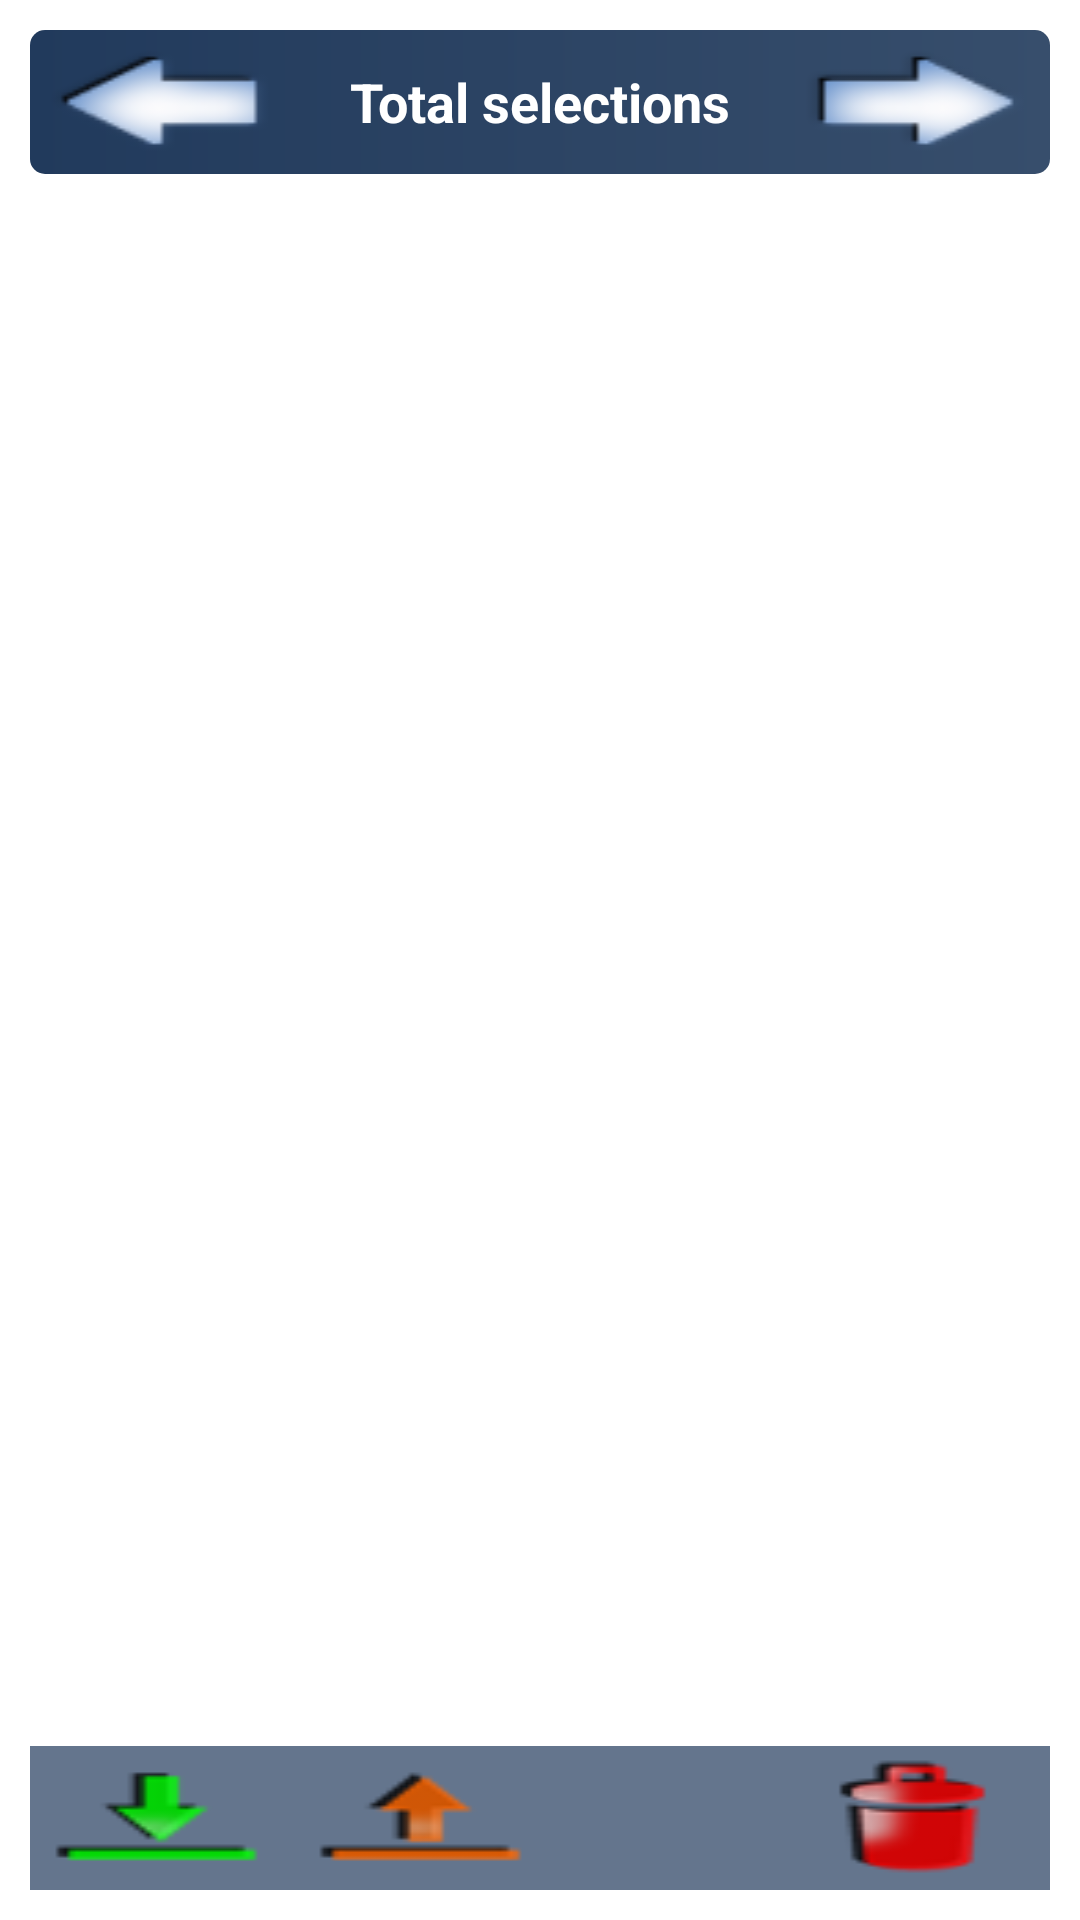

Where to tap for icons on this 1080px×1920px app screen, as (x=x, y=y):
load: (x=420, y=1817)
save: (x=162, y=1818)
